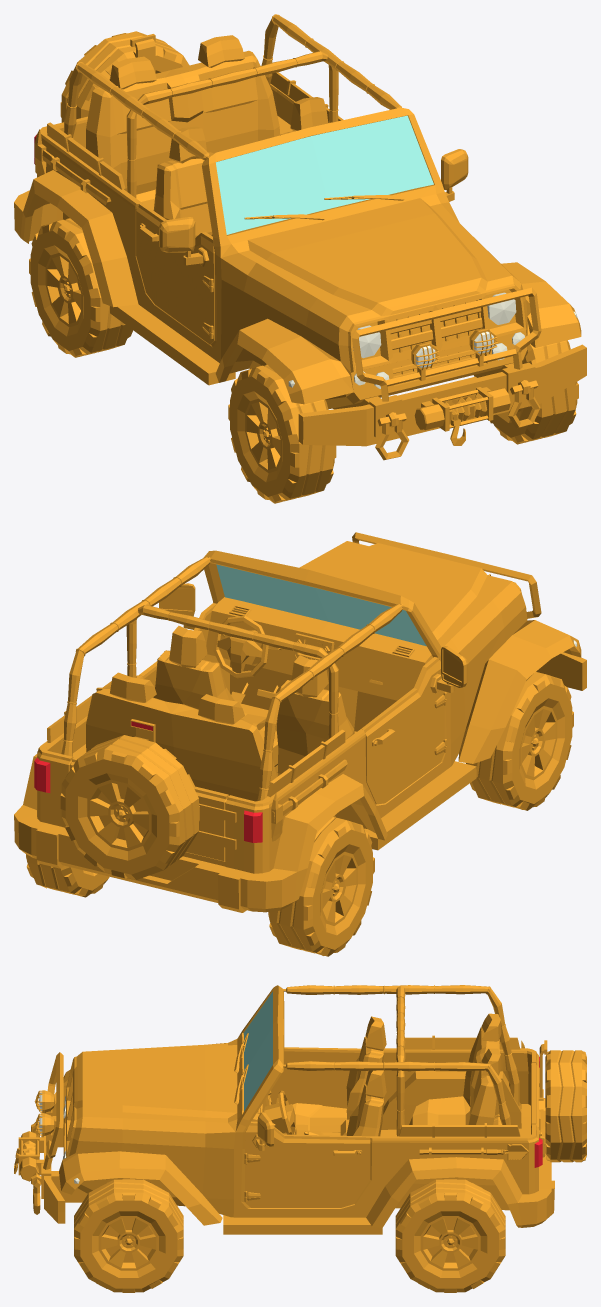
The model's file is SM_Car_Offroad_Roofless_Modern.fbx.
3 views of the same model, one above another, from view 1: azimuth 30°, elevation 25°; view 2: azimuth 150°, elevation 25°; view 3: azimuth 270°, elevation 25° (orthographic). The views are drawn at different scales.
Parts seen in each view (by area): view 1: SM_Car_Offroad_Roofless_Modern_Base, SM_Car_Offroad_Roofless_Modern_Wheel_RF, SM_Car_Offroad_Roofless_Modern_Wheel_RB, SM_Car_Offroad_Roofless_Modern_Door_L, SM_Car_Offroad_Roofless_Modern_Trunk, SM_Car_Offroad_Roofless_Modern_Wheel_LF, SM_Car_Offroad_Roofless_Modern_Door_R; view 2: SM_Car_Offroad_Roofless_Modern_Base, SM_Car_Offroad_Roofless_Modern_Trunk, SM_Car_Offroad_Roofless_Modern_Wheel_RB, SM_Car_Offroad_Roofless_Modern_Wheel_RF, SM_Car_Offroad_Roofless_Modern_Door_L, SM_Car_Offroad_Roofless_Modern_SteeringWheel, SM_Car_Offroad_Roofless_Modern_Wheel_LB, SM_Car_Offroad_Roofless_Modern_Door_R; view 3: SM_Car_Offroad_Roofless_Modern_Base, SM_Car_Offroad_Roofless_Modern_Wheel_LB, SM_Car_Offroad_Roofless_Modern_Wheel_LF, SM_Car_Offroad_Roofless_Modern_Door_R, SM_Car_Offroad_Roofless_Modern_Trunk, SM_Car_Offroad_Roofless_Modern_Door_L, SM_Car_Offroad_Roofless_Modern_SteeringWheel.
Boxes of the visible parts, <box> form: SM_Car_Offroad_Roofless_Modern_Base: <box>14,14,586,460</box>; SM_Car_Offroad_Roofless_Modern_Wheel_RF: <box>228,364,336,503</box>; SM_Car_Offroad_Roofless_Modern_Wheel_RB: <box>29,218,132,357</box>; SM_Car_Offroad_Roofless_Modern_Door_L: <box>136,203,214,344</box>; SM_Car_Offroad_Roofless_Modern_Trunk: <box>60,31,189,147</box>; SM_Car_Offroad_Roofless_Modern_Wheel_LF: <box>474,322,578,444</box>; SM_Car_Offroad_Roofless_Modern_Door_R: <box>441,149,468,201</box>; SM_Car_Offroad_Roofless_Modern_Base: <box>14,532,586,912</box>; SM_Car_Offroad_Roofless_Modern_Trunk: <box>60,719,236,879</box>; SM_Car_Offroad_Roofless_Modern_Wheel_RB: <box>268,817,374,956</box>; SM_Car_Offroad_Roofless_Modern_Wheel_RF: <box>466,672,573,810</box>; SM_Car_Offroad_Roofless_Modern_Door_L: <box>361,646,468,804</box>; SM_Car_Offroad_Roofless_Modern_SteeringWheel: <box>213,615,268,678</box>; SM_Car_Offroad_Roofless_Modern_Wheel_LB: <box>26,854,109,897</box>; SM_Car_Offroad_Roofless_Modern_Door_R: <box>139,583,218,697</box>; SM_Car_Offroad_Roofless_Modern_Base: <box>14,985,554,1234</box>; SM_Car_Offroad_Roofless_Modern_Wheel_LB: <box>395,1179,505,1292</box>; SM_Car_Offroad_Roofless_Modern_Wheel_LF: <box>74,1179,183,1292</box>; SM_Car_Offroad_Roofless_Modern_Door_R: <box>244,1112,370,1207</box>; SM_Car_Offroad_Roofless_Modern_Trunk: <box>531,1040,586,1162</box>; SM_Car_Offroad_Roofless_Modern_Door_L: <box>270,1047,361,1108</box>; SM_Car_Offroad_Roofless_Modern_SteeringWheel: <box>278,1090,295,1134</box>.
Size of the model in its own units: 2.43 by 2.03 by 4.86.
